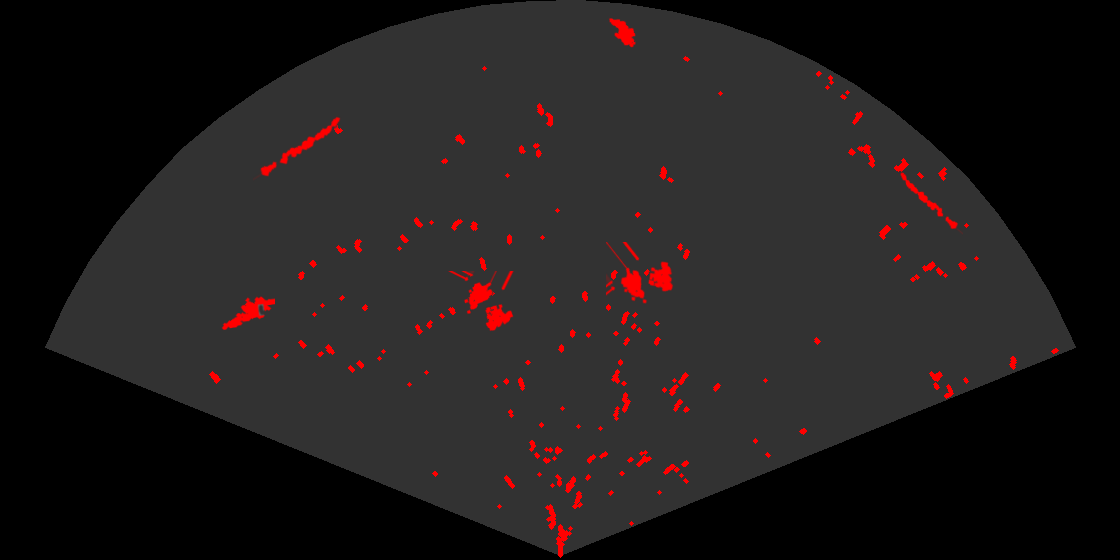AUV: (607, 16, 637, 49)
cage: (606, 242, 675, 305), (447, 271, 515, 333)
chain: (253, 115, 342, 182), (899, 171, 963, 236)
frogman: (220, 295, 275, 332)
